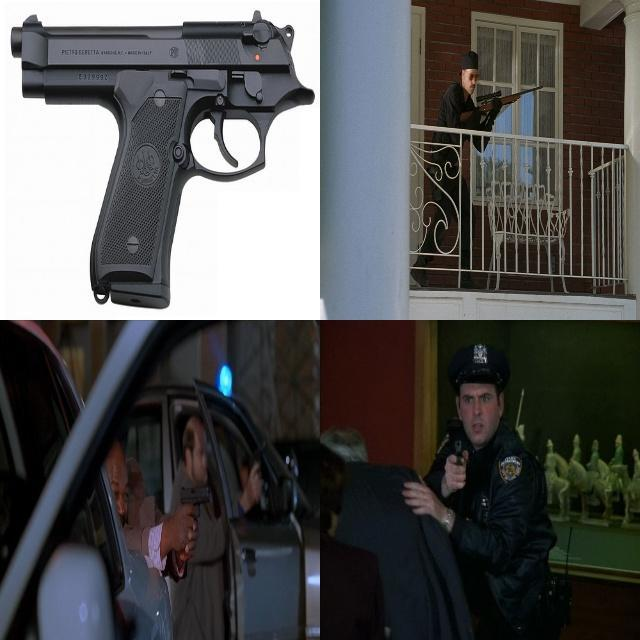gun-knife-thesis - v11 Yolov5 augmented: (9, 10, 315, 309), (450, 82, 542, 122), (177, 478, 210, 561), (440, 432, 466, 487)
